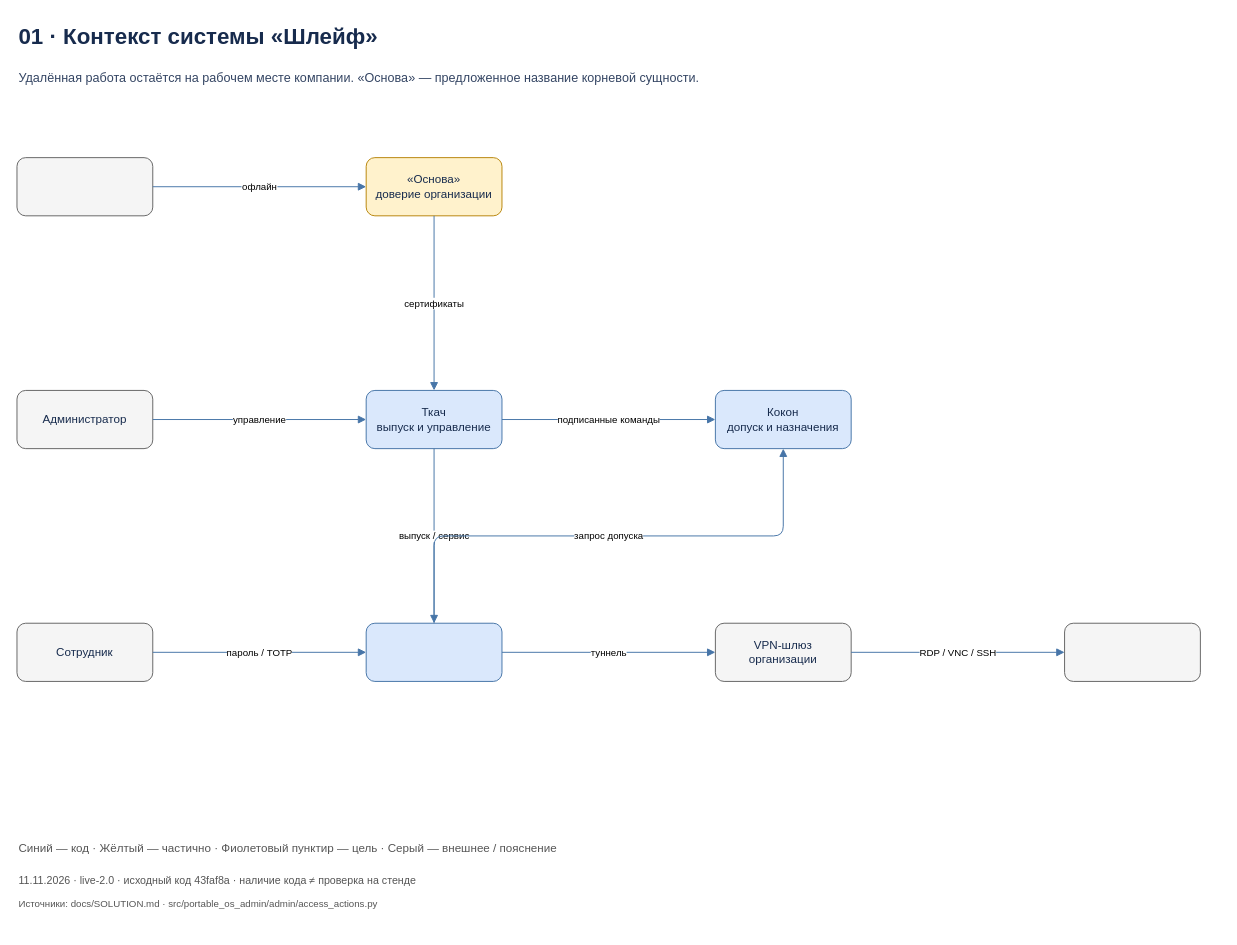
Image size: 1237x945. Some labels were removed from this diagram. The box of each missing label's shape, as (x1, y1, x2, y2) in pixels:
Владелец корня: (16, 157, 153, 216)
Нить переносная среда: (365, 622, 502, 681)
Рабочее место компании: (1064, 622, 1200, 681)
